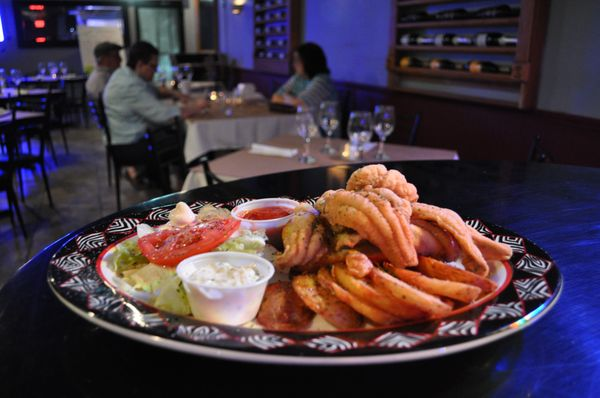sushi: (176, 250, 275, 326), (231, 196, 300, 244)
